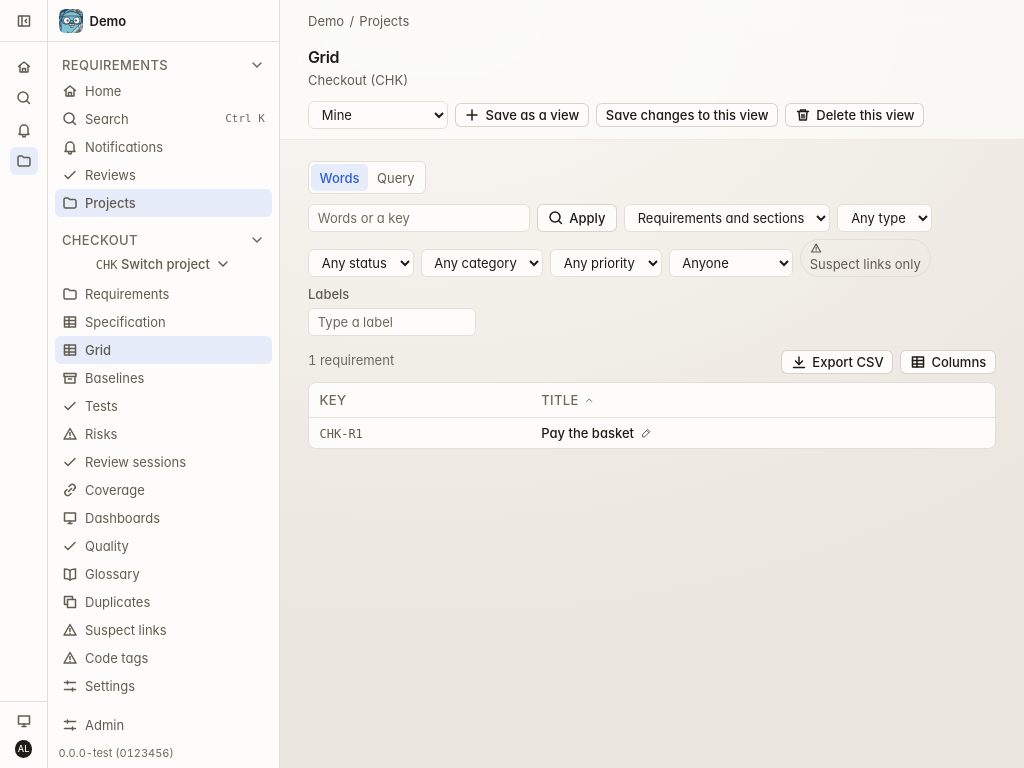
it: a saved view › saves the grid's filter, order and columns into the open view
Check: the table is shown, box [309,383,995,448]
Check: the dropdown named "Views" shows "Mine", box [308,101,448,129]
Select "Must" in the dropdown named "Priority" at (606, 263), box [550,249,662,277]
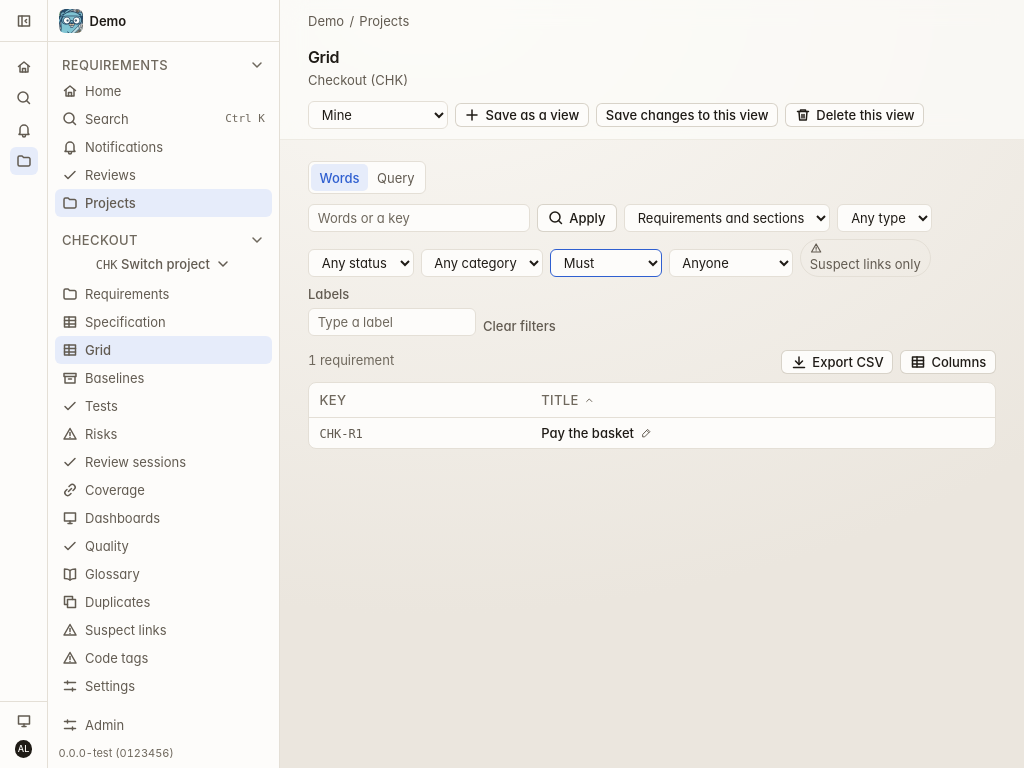
Click the button with aria-label "Sort by Title" at (568, 400), box [541,390,594,410]
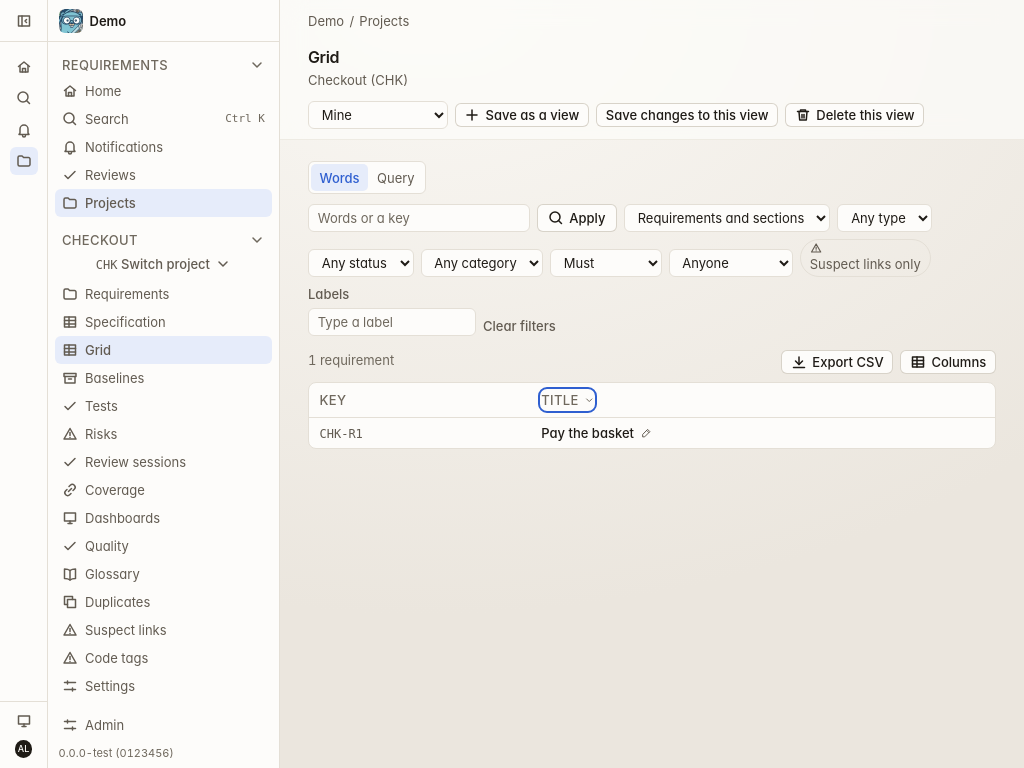
Click the button "Save changes to this view" at (687, 115), box [596,102,778,127]
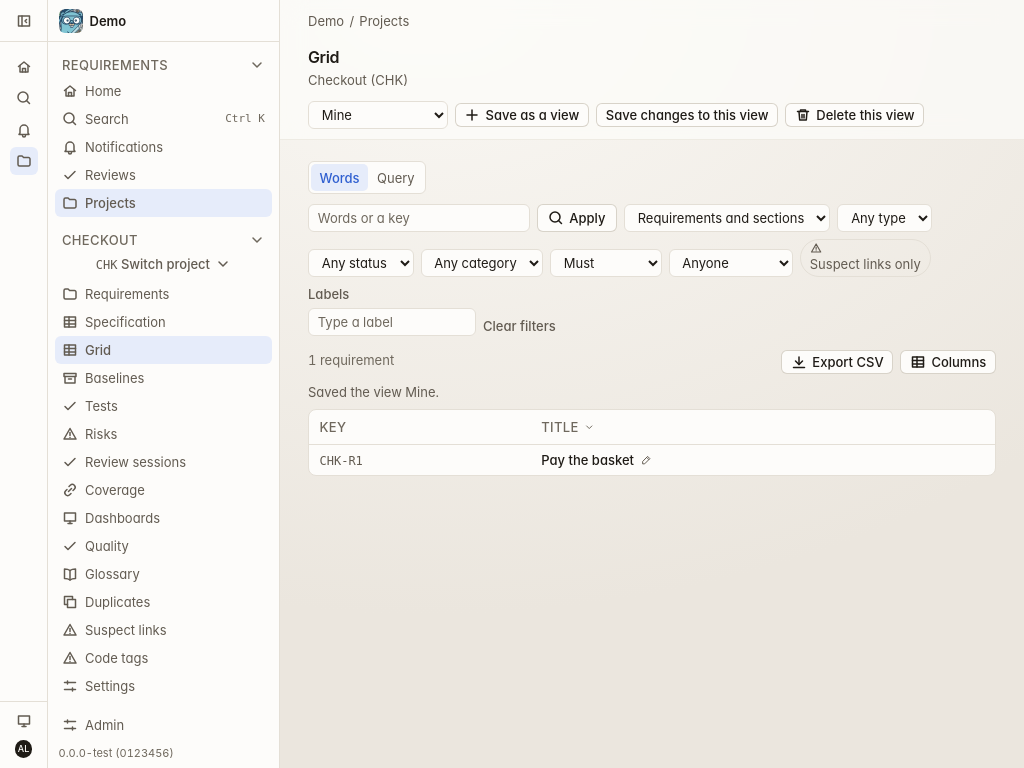
Check: the text "Saved the view Mine." is shown, box [308,384,439,400]
